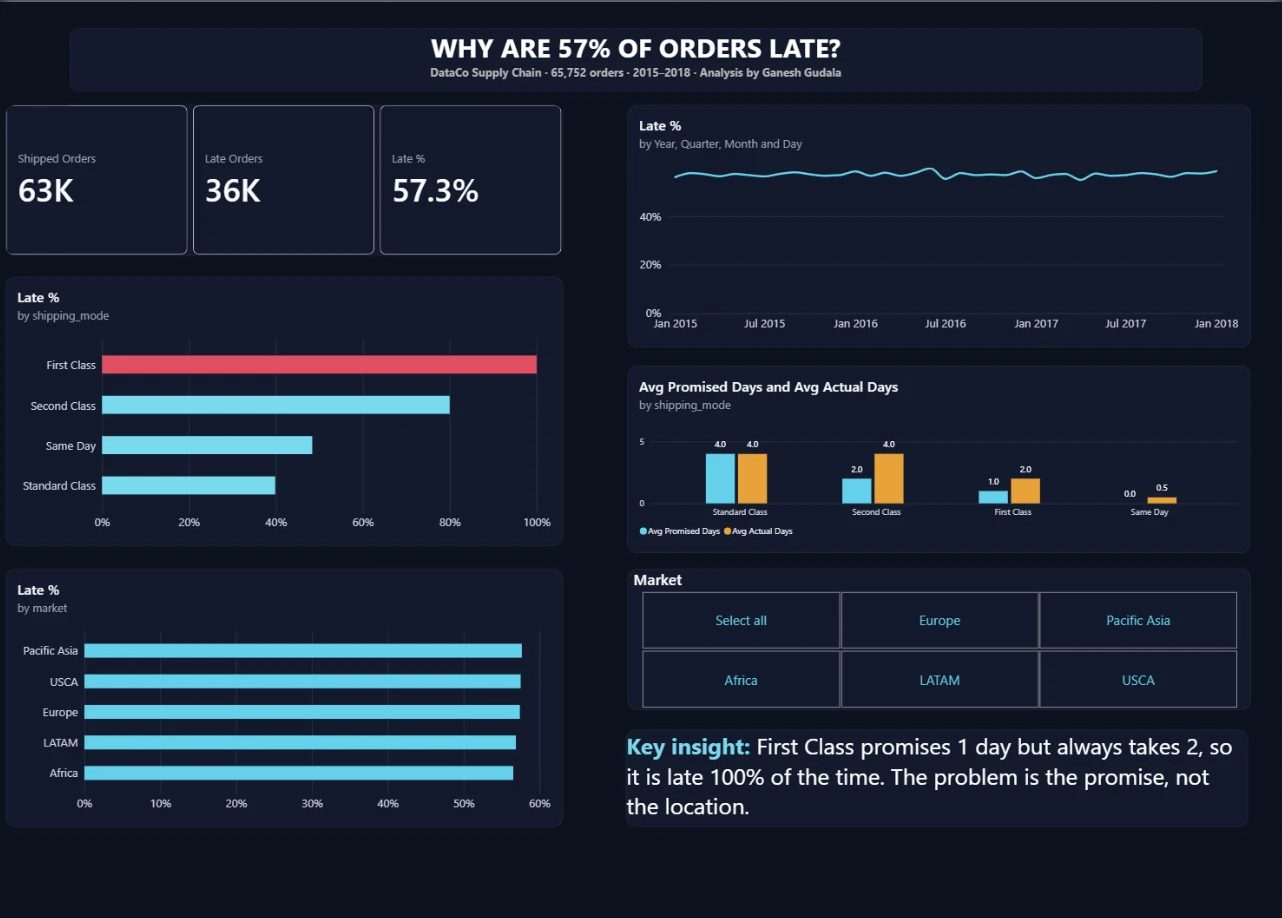

The dashboard page shown, as its layout file describes it:
{"tool":"powerbi","page":{"name":"Page 1","canvas":[1820,1300],"ordinal":0},"visuals":[{"type":"cardVisual","fields":{"Data":["powerbi_orders.Shipped Orders","powerbi_orders.Late Orders","powerbi_orders.Late %"]},"box":[8.9,146.2,790,213.4],"z":0},{"type":"barChart","fields":{"Category":["powerbi_orders.shipping_mode"],"Y":["powerbi_orders.Late %"]},"box":[8.9,389.8,790,381.4],"z":1000},{"type":"barChart","fields":{"Category":["powerbi_orders.market"],"Y":["powerbi_orders.Late %"]},"box":[8.9,803.9,790,365.5],"z":2000},{"type":"lineChart","fields":{"Category":["powerbi_orders.order_month.Variation.Date Hierarchy.Year","powerbi_orders.order_month.Variation.Date Hierarchy.Quarter","powerbi_orders.order_month.Variation.Date Hierarchy.Month","powerbi_orders.order_month.Variation.Date Hierarchy.Day"],"Y":["powerbi_orders.Late %"]},"box":[890.3,146.2,883.2,343.4],"z":3000},{"type":"clusteredColumnChart","fields":{"Category":["powerbi_orders.shipping_mode"],"Y":["powerbi_orders.Avg Promised Days","powerbi_orders.Avg Actual Days"]},"box":[890.3,516,883,265],"z":4000},{"type":"slicer","fields":{"Values":["powerbi_orders.market"]},"box":[890.3,803.9,883.7,199.3],"z":5000},{"type":"textbox","box":[888.8,1032.9,881.9,137.3],"z":6000},{"type":"textbox","box":[99.7,37.6,1605.7,88.6],"z":7000}]}

Visuals, with their boxes in screenshot pixels (x1, y1, x2, y2), scaled from the page's 1820x1300 canvas onto the 1282x918 screenshot:
cardVisual - powerbi_orders.Shipped Orders x powerbi_orders.Late Orders: Rect(6, 103, 563, 254)
barChart - powerbi_orders.shipping_mode x powerbi_orders.Late %: Rect(6, 275, 563, 545)
barChart - powerbi_orders.market x powerbi_orders.Late %: Rect(6, 568, 563, 826)
lineChart - powerbi_orders.order_month.Variation.Date Hierarchy.Year x powerbi_orders.order_month.Variation.Date Hierarchy.Quarter: Rect(627, 103, 1249, 346)
clusteredColumnChart - powerbi_orders.shipping_mode x powerbi_orders.Avg Promised Days: Rect(627, 364, 1249, 552)
slicer - powerbi_orders.market: Rect(627, 568, 1250, 708)
textbox: Rect(626, 729, 1247, 826)
textbox: Rect(70, 27, 1201, 89)
